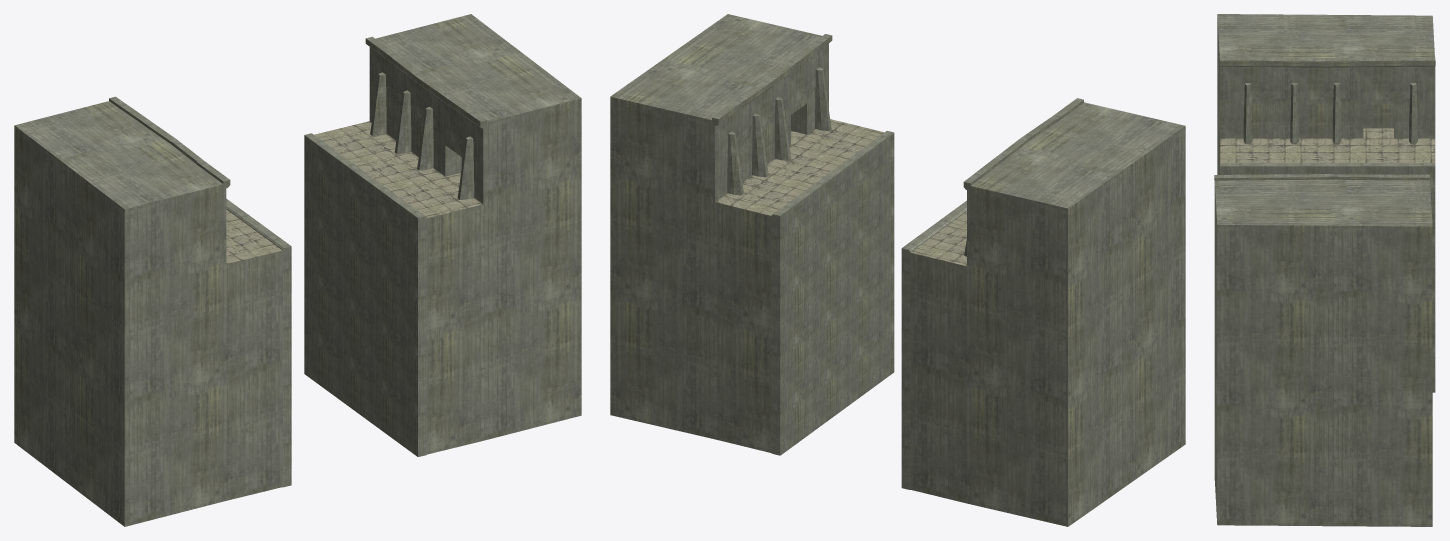
File: SM_Republic_00.fbx
The picture shows the model from 3 angles, left to right: view 1: azimuth 30°, elevation 25°; view 2: azimuth 150°, elevation 25°; view 3: azimuth 270°, elevation 25°; orthographic projection. The views are drawn at different scales.
Parts seen in each view (by area): view 1: SM_Republic_00, SM_Republic_00.002, SM_Republic_03; view 2: SM_Republic_00, SM_Republic_00.002, SM_Republic_03; view 3: SM_Republic_00, SM_Republic_03, SM_Republic_00.002.
Boxes of the visible parts, <box> form: SM_Republic_00: <box>14,14,581,526</box>; SM_Republic_00.002: <box>226,133,426,487</box>; SM_Republic_03: <box>109,36,486,264</box>; SM_Republic_00: <box>610,14,1185,526</box>; SM_Republic_00.002: <box>771,131,966,489</box>; SM_Republic_03: <box>712,34,1083,266</box>; SM_Republic_00: <box>1214,14,1434,526</box>; SM_Republic_03: <box>1214,57,1435,184</box>; SM_Republic_00.002: <box>1220,163,1435,392</box>.
Bounding box in the file's own units: 6124 × 4082 × 2691.
